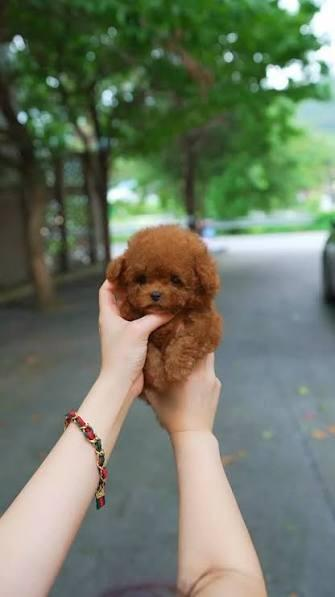puppy-dog: (105, 223, 223, 396)
